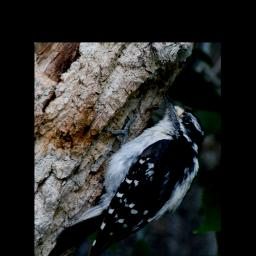Woodpecker: (41, 92, 208, 256)
